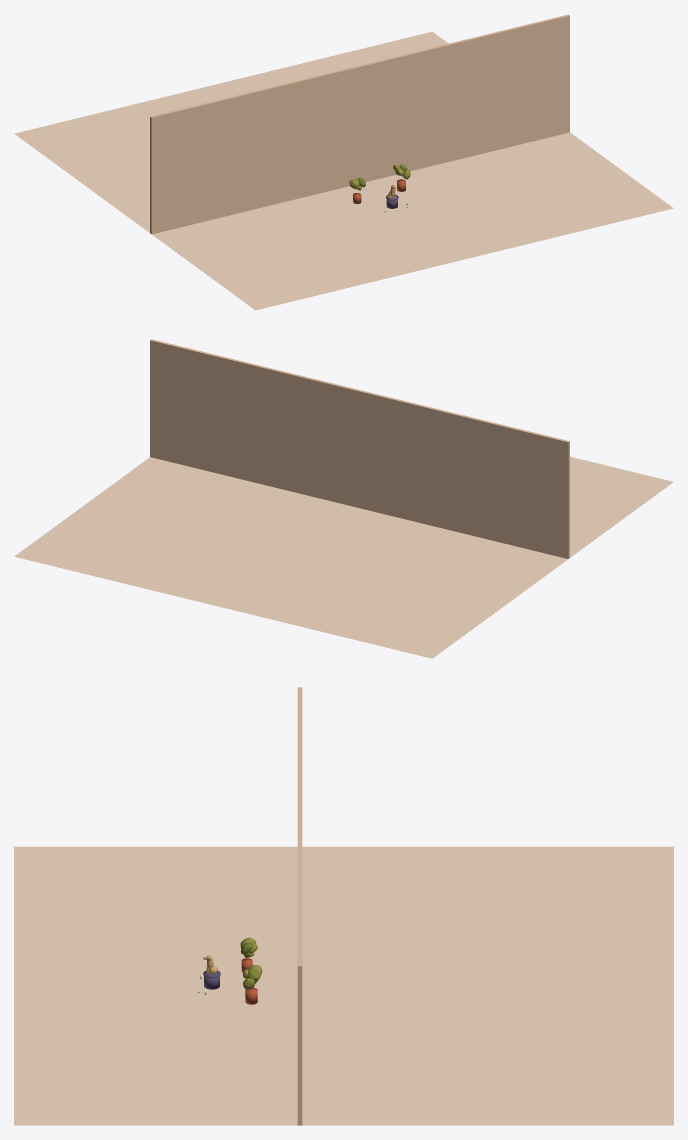
Rendered from sculpture_photo.glb.
The picture shows the model from 3 angles, top to bottom: view 1: azimuth 30°, elevation 25°; view 2: azimuth 150°, elevation 25°; view 3: azimuth 270°, elevation 25°; orthographic projection. The views are drawn at different scales.
Visible parts, largest first — view 1: environment_3, environment_4; view 2: environment_3, environment_4; view 3: environment_3, environment_4.
Part boxes in pixels (x1,y1,x2,y2): environment_3: [14, 31, 673, 310]; environment_4: [150, 14, 569, 234]; environment_3: [14, 456, 673, 658]; environment_4: [150, 339, 569, 558]; environment_3: [14, 846, 673, 1125]; environment_4: [297, 687, 302, 1125].
Bounding box in the file's own units: 30 × 8 × 30.
